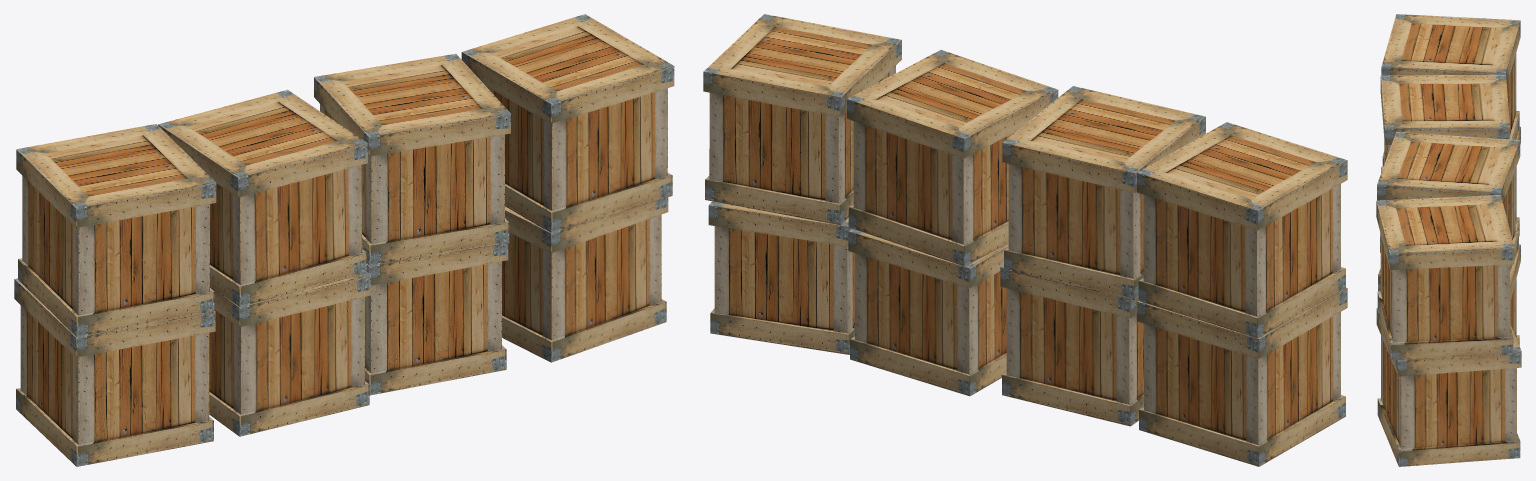
File: Crates_4.fbx
3 renders of one model, left to right at view 1: azimuth 30°, elevation 25°; view 2: azimuth 150°, elevation 25°; view 3: azimuth 270°, elevation 25°, orthographic. The views are drawn at different scales.
Visible parts, largest first — view 1: polySurface3; view 2: polySurface3; view 3: polySurface3.
Boxes of the visible parts, x1=… form: polySurface3: x1=14, y1=14, x2=674, y2=466; polySurface3: x1=703, y1=14, x2=1347, y2=466; polySurface3: x1=1376, y1=14, x2=1521, y2=466.
Bounding box in the file's own units: 257 × 107 × 65.74.
